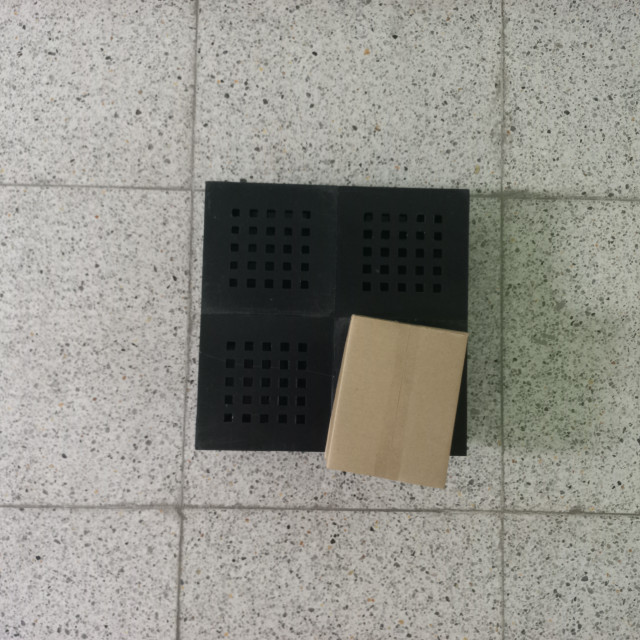box: (322, 310, 469, 493)
pallet: (190, 180, 472, 462)
